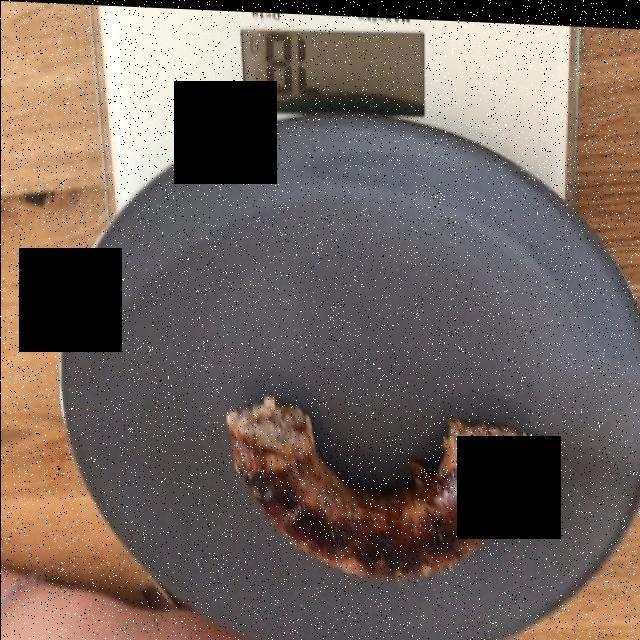sausage: (231, 395, 535, 575)
